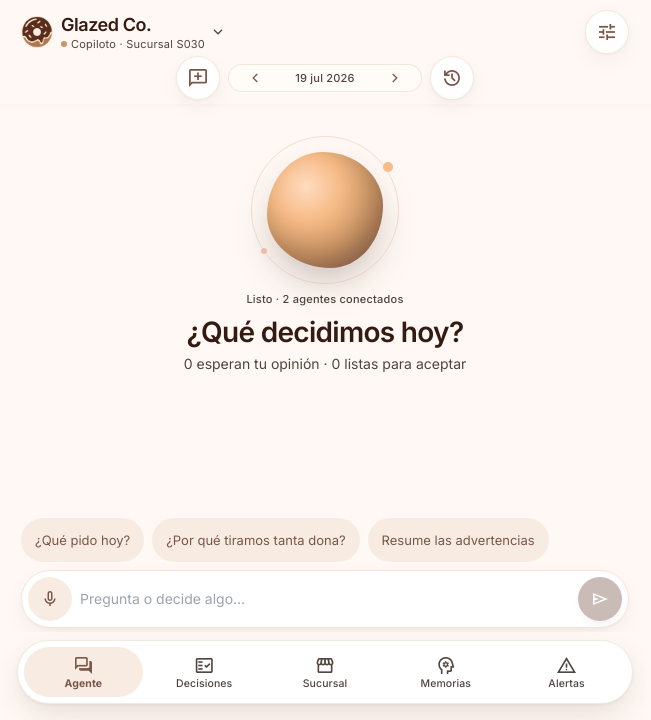
Memorias window › shows the error when the route fails
The width and height of the screenshot is (651, 720).
What coordinates should you click on to do the following:
click the button "Memorias"
I would click on:
 (446, 672)
Its box is top-left (386, 647), bottom-right (505, 697).
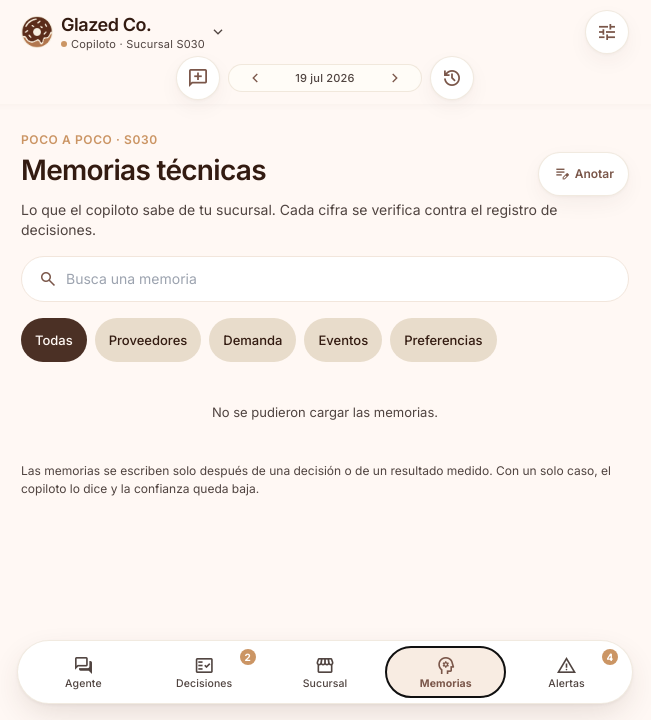
expect the text "No se pudieron cargar las memorias." is shown: met, box top-left (212, 404), bottom-right (438, 420)
